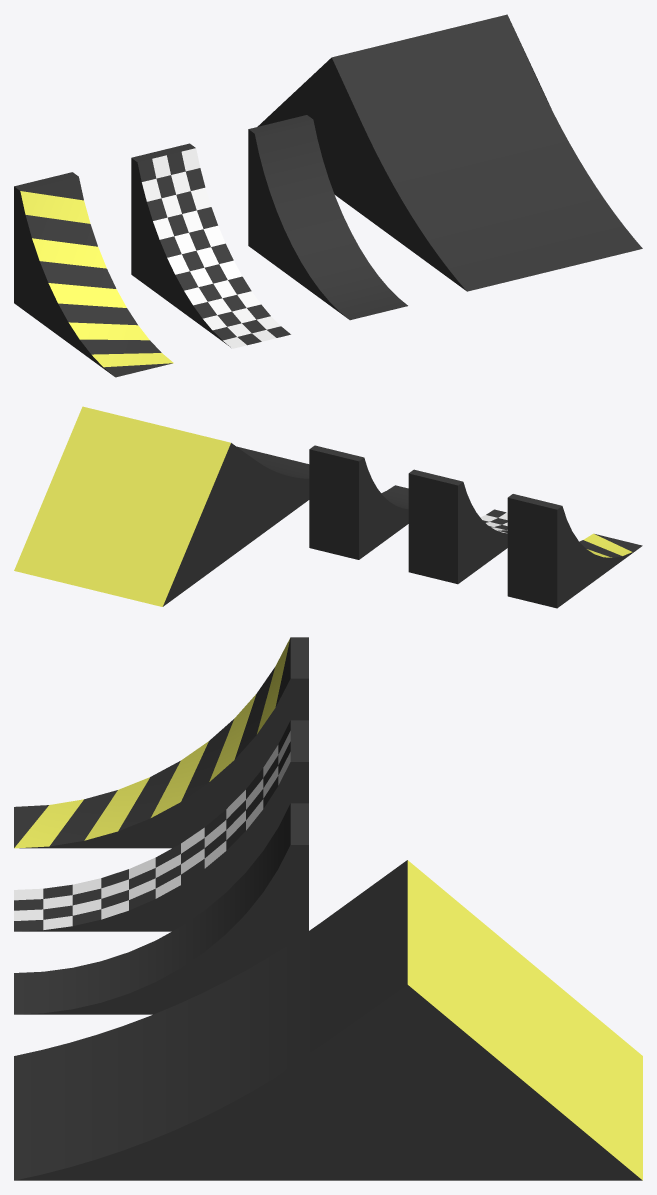
Rendered from Ramps_1.FBX.
3 renders of one model, top to bottom at view 1: azimuth 30°, elevation 25°; view 2: azimuth 150°, elevation 25°; view 3: azimuth 270°, elevation 25°, orthographic. The views are drawn at different scales.
Parts seen in each view (by area): view 1: Ramp_4, Ramp_3, Ramp_2, Ramp_1; view 2: Ramp_4, Ramp_1, Ramp_2, Ramp_3; view 3: Ramp_4, Ramp_3, Ramp_1, Ramp_2.
Part boxes in pixels (box(x1,y1,x2,y2)): Ramp_4: box(257, 14, 642, 291); Ramp_3: box(248, 115, 407, 320); Ramp_2: box(131, 143, 290, 348); Ramp_1: box(14, 172, 173, 377); Ramp_4: box(14, 406, 309, 606); Ramp_1: box(507, 494, 642, 608); Ramp_2: box(408, 469, 507, 584); Ramp_3: box(309, 445, 408, 559); Ramp_4: box(14, 860, 642, 1180); Ramp_3: box(14, 803, 308, 1014); Ramp_1: box(14, 637, 308, 848); Ramp_2: box(14, 720, 308, 931).
Size of the model in its own units: 540 by 132 by 384.
